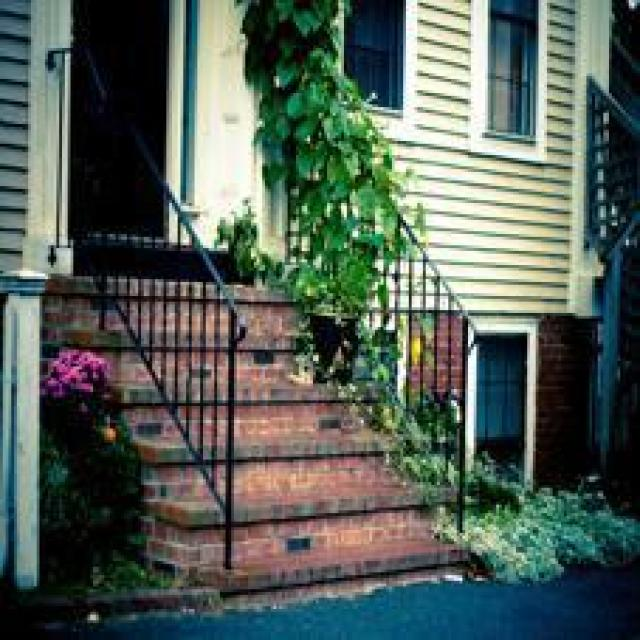upstair: (201, 427, 486, 585)
